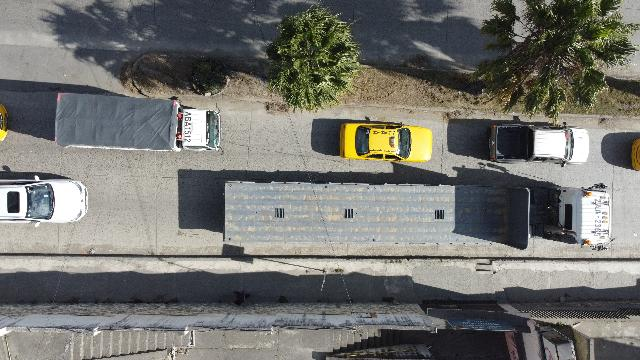Vehiculo: (0, 170, 88, 224), (487, 122, 589, 166), (340, 121, 432, 162)
